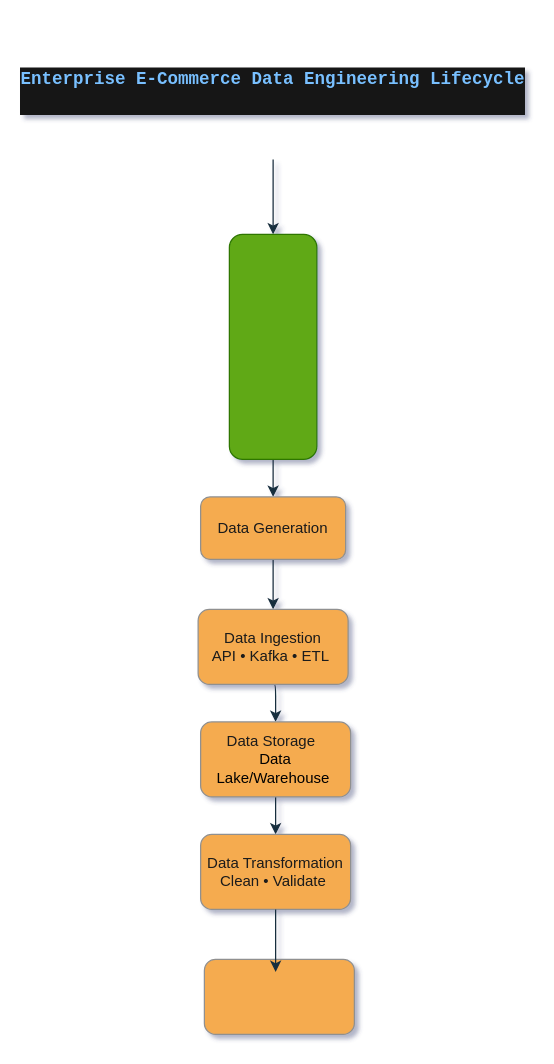
Image size: 554x1064. Some labels were removed from this diagram. Here are the shapes that lost their labels. From the top down, the centre of each, then its label:
(272,346): Customers Products Orders Payments Clickstream Inventory
(278,996): Data Serving Power BI • Tableau
